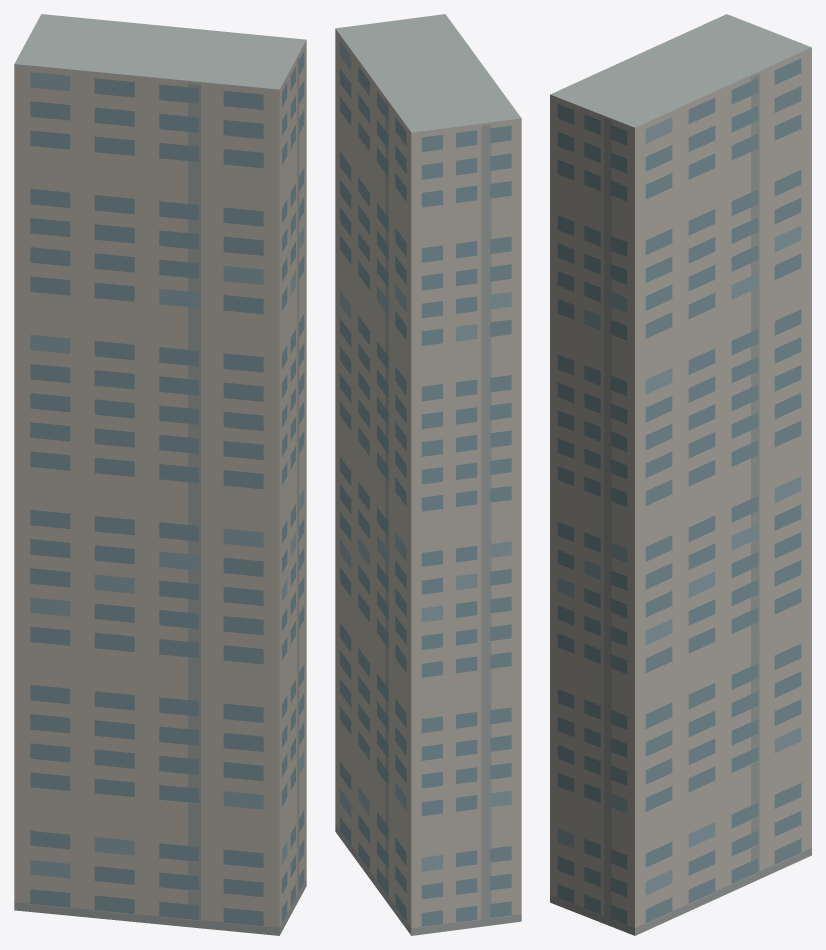
Rendered from residential-9b995cb1-3f82-48b0-ab84-acb8f0b92d62.glb.
3 views of the same model, side by side, from view 1: azimuth 30°, elevation 25°; view 2: azimuth 150°, elevation 25°; view 3: azimuth 270°, elevation 25° (orthographic). The views are drawn at different scales.
Parts seen in each view (by area): view 1: residential-9b995cb1-3f82-48b0-ab84-acb8f0b92d62.tmp; view 2: residential-9b995cb1-3f82-48b0-ab84-acb8f0b92d62.tmp; view 3: residential-9b995cb1-3f82-48b0-ab84-acb8f0b92d62.tmp.
Boxes of the visible parts, <box> form: residential-9b995cb1-3f82-48b0-ab84-acb8f0b92d62.tmp: <box>14,14,306,935</box>; residential-9b995cb1-3f82-48b0-ab84-acb8f0b92d62.tmp: <box>335,14,521,935</box>; residential-9b995cb1-3f82-48b0-ab84-acb8f0b92d62.tmp: <box>550,14,811,935</box>.
Bounding box in the file's own units: 25.68 × 85 × 24.96.
